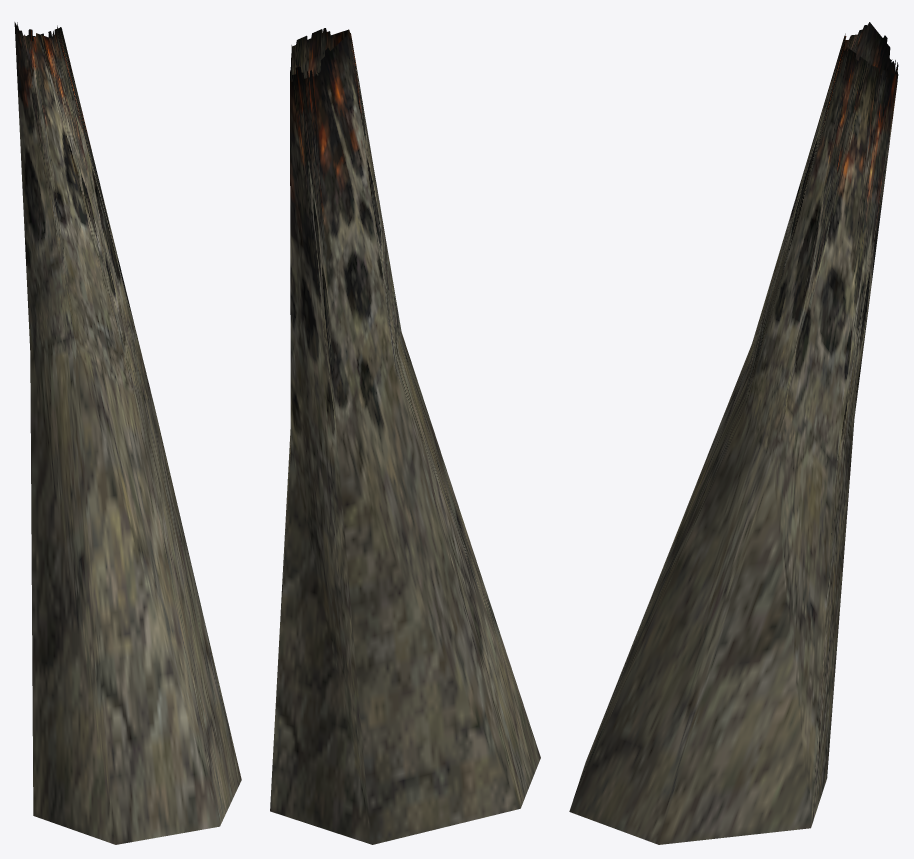
Rendered from volcanicventmed01.glb.
The picture shows the model from 3 angles, left to right: view 1: azimuth 30°, elevation 25°; view 2: azimuth 150°, elevation 25°; view 3: azimuth 270°, elevation 25°; orthographic projection. The views are drawn at different scales.
Size of the model in its own units: 1.04 by 3.74 by 1.46.
1 material, 1 textured.
